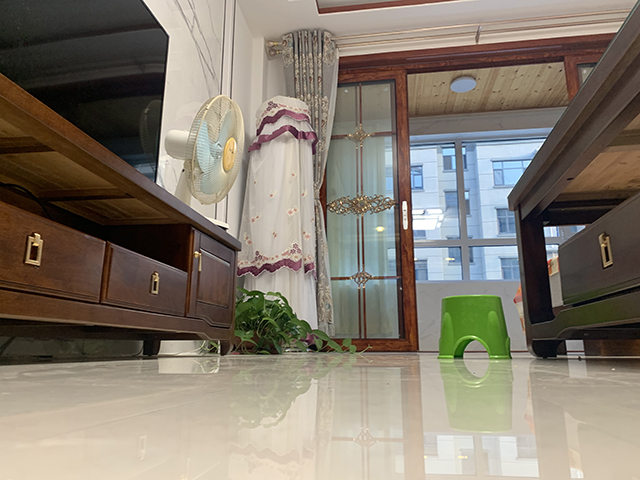cabinet: (1, 72, 241, 357)
curtain: (282, 27, 341, 338)
stool: (436, 295, 514, 360)
table: (507, 1, 640, 360)
